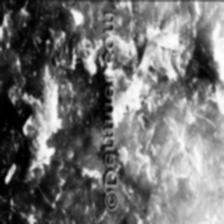Potentially Malignant Skin Tumors: (125, 3, 224, 219), (0, 0, 93, 224)
